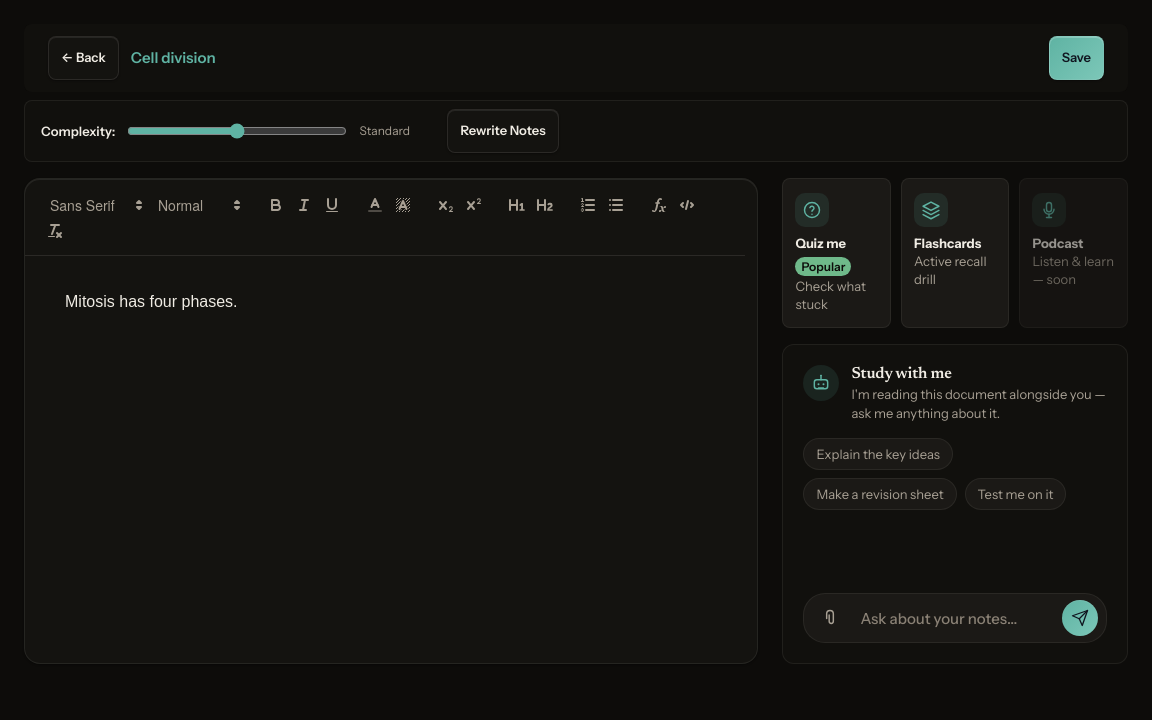
it: NotesAiSidebar › appends INSERT_INTO_NOTE's content to the live document and confirms it
Check: the text box labelled "Mitosis has four phases." is shown, box 65,293 -> 238,310
Type "Add a summary of the phases to my notes" into the text box named "Ask about this document" at point(955, 618), box 856,601 -> 1054,636
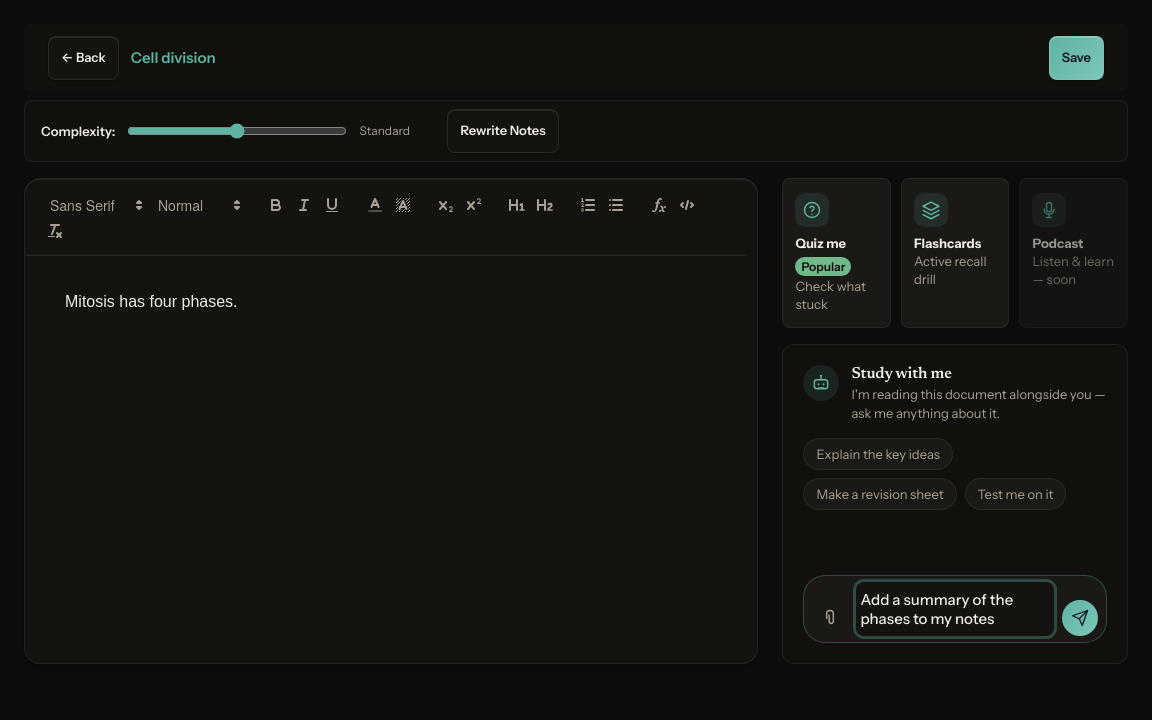
Click the button named "Send" at point(1080, 618), box 1062,600 -> 1098,636
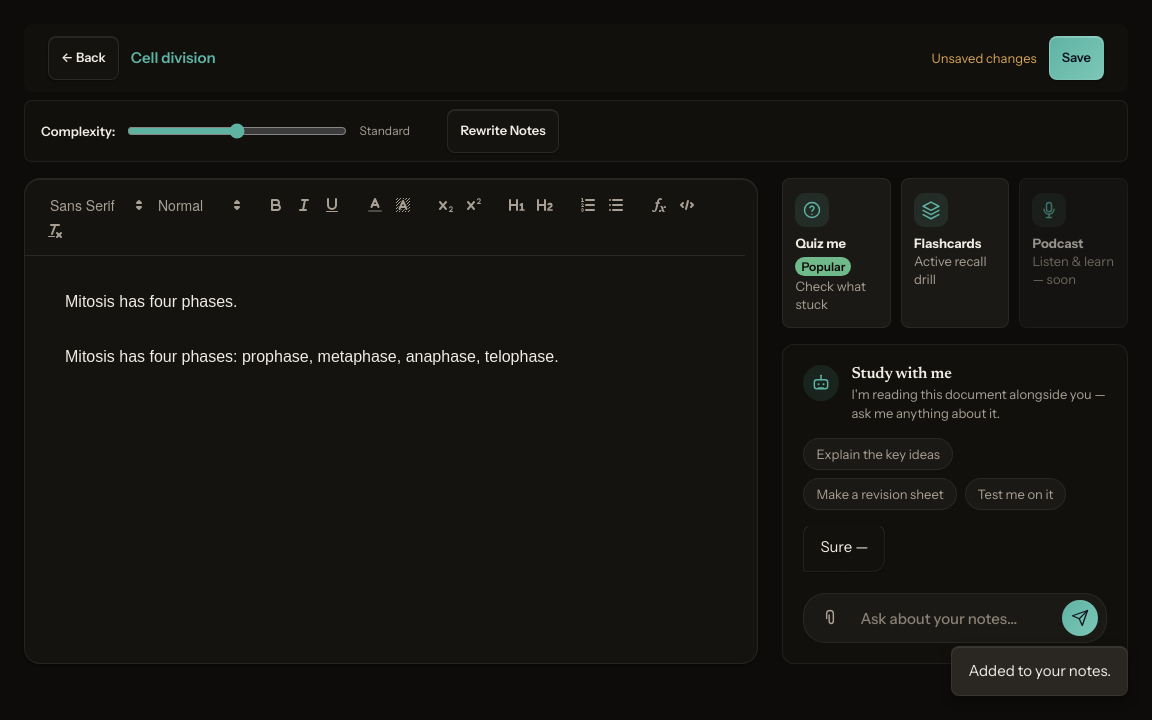
Check: the text "Sure —" is shown, box 820,535 -> 868,559
Check: the text box that starts with "Mitosis has four phases." shows "Mitosis has four phases: prophase, metaphase, anaphase, telophase.", box 65,293 -> 559,364
Check: the text "Added to your notes." is shown, box 968,659 -> 1111,683
